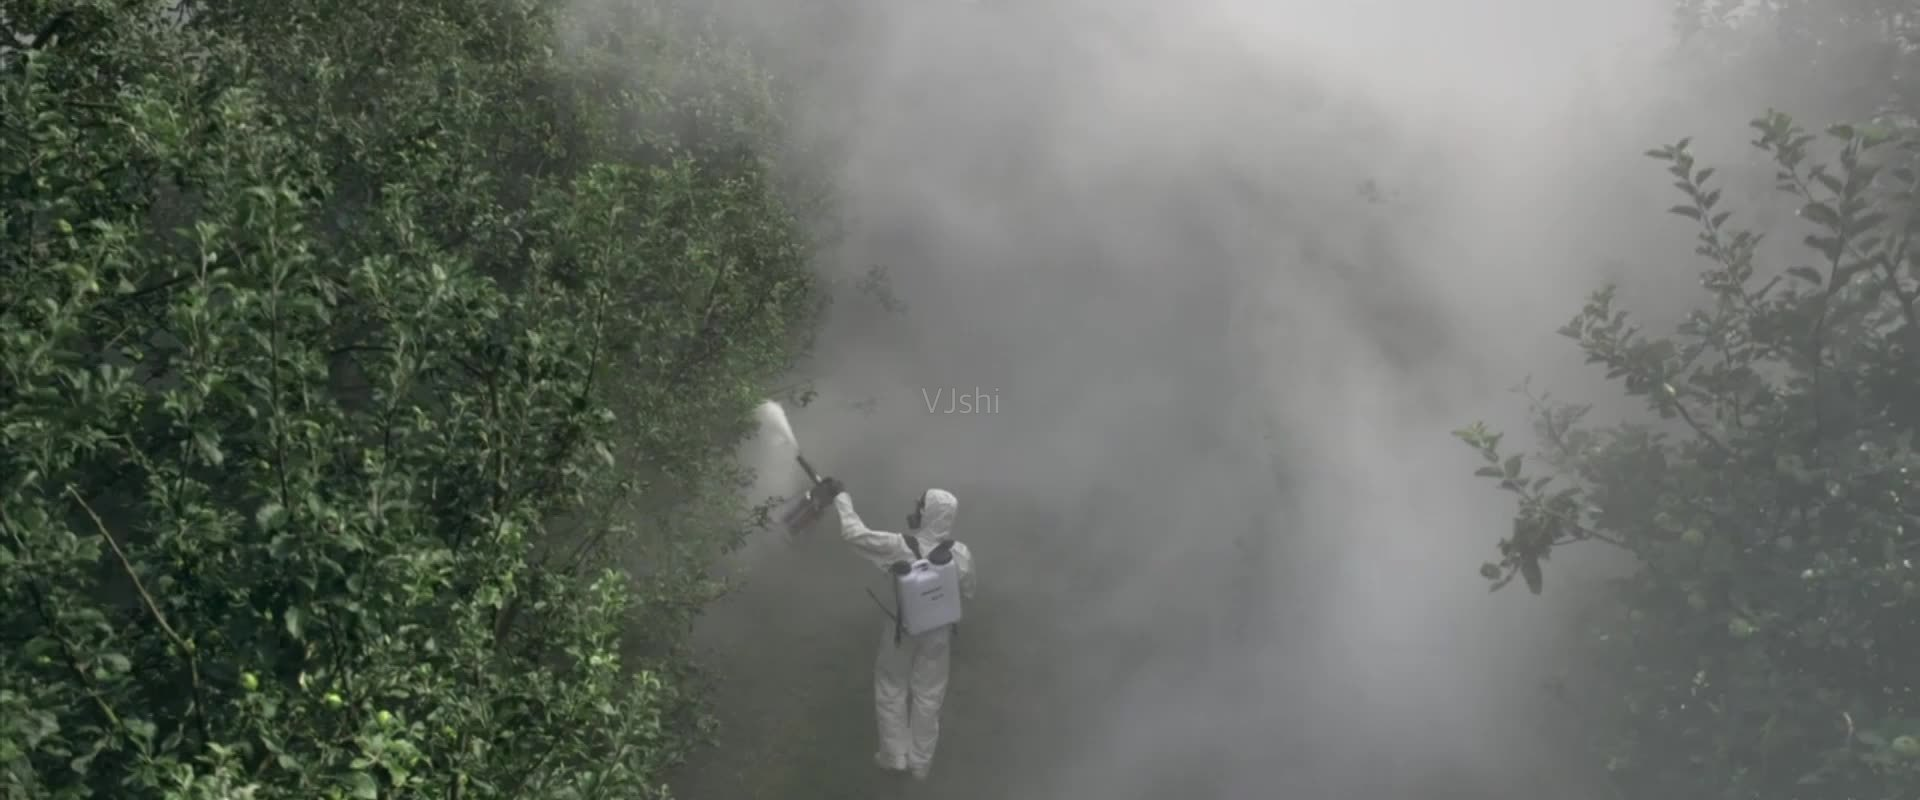berrl: (885, 553, 969, 640)
